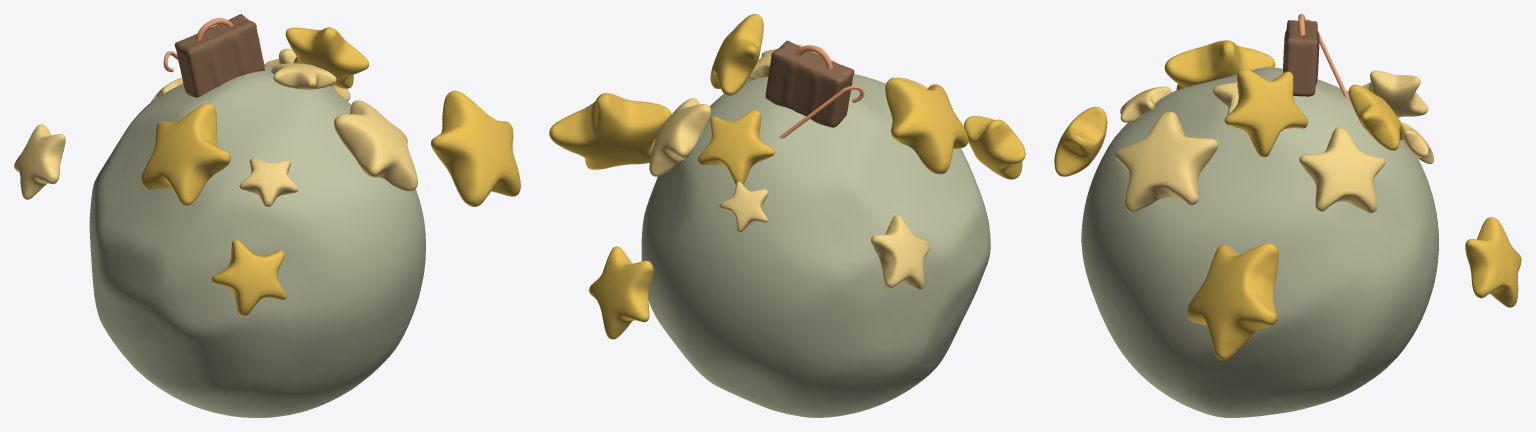
Rendered from planet_328_the_businessman.glb.
3 views of the same model, side by side, from view 1: azimuth 30°, elevation 25°; view 2: azimuth 150°, elevation 25°; view 3: azimuth 270°, elevation 25° (orthographic).
Parts seen in each view (by area): view 1: Object_3, Object_5, Object_6, Object_2; view 2: Object_3, Object_5, Object_6, Object_2, Object_4; view 3: Object_3, Object_5, Object_6, Object_2, Object_4.
Boxes of the visible parts, x1,y1,x2,y2 form: Object_3: [89, 65, 425, 417]; Object_5: [141, 27, 520, 316]; Object_6: [14, 48, 417, 206]; Object_2: [174, 14, 264, 97]; Object_3: [641, 74, 990, 417]; Object_5: [549, 14, 1025, 339]; Object_6: [649, 44, 929, 289]; Object_2: [765, 40, 854, 127]; Object_4: [779, 45, 864, 138]; Object_3: [1081, 67, 1438, 417]; Object_5: [1054, 40, 1521, 360]; Object_6: [1115, 70, 1433, 213]; Object_2: [1283, 20, 1319, 96]; Object_4: [1298, 14, 1349, 98].
Bounding box in the file's own units: 0.2718 × 0.2248 × 0.2521.
